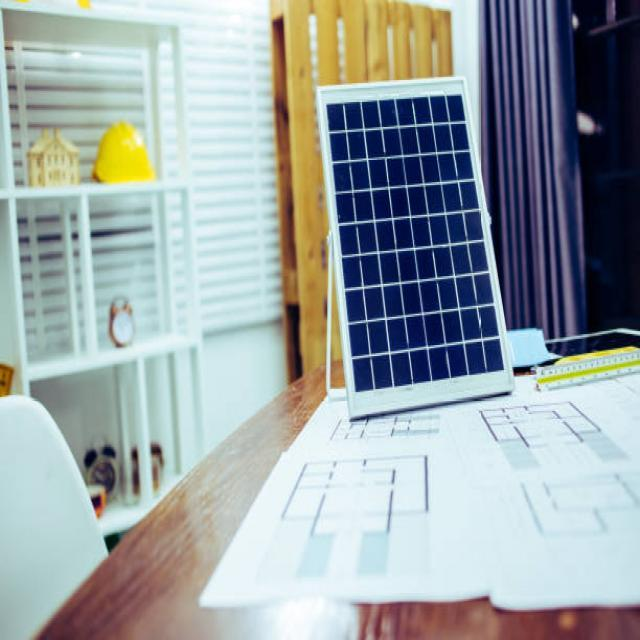no faulty: (323, 80, 512, 416)
